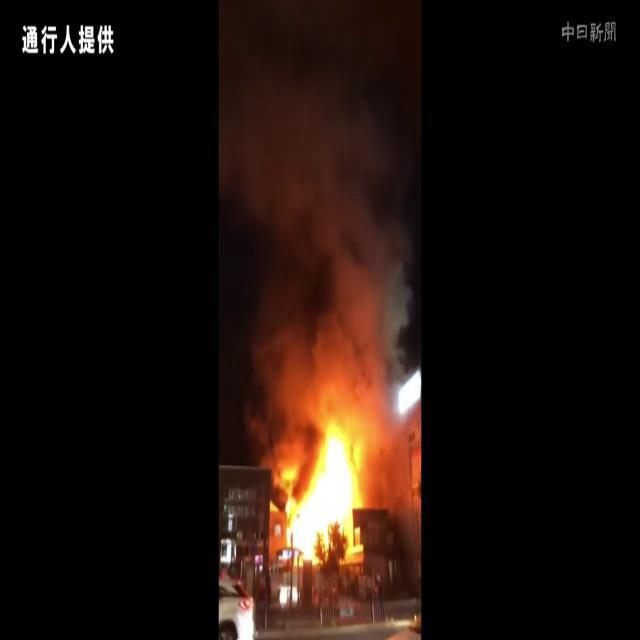Fire: (276, 407, 368, 573)
Smoke: (220, 2, 420, 434)
